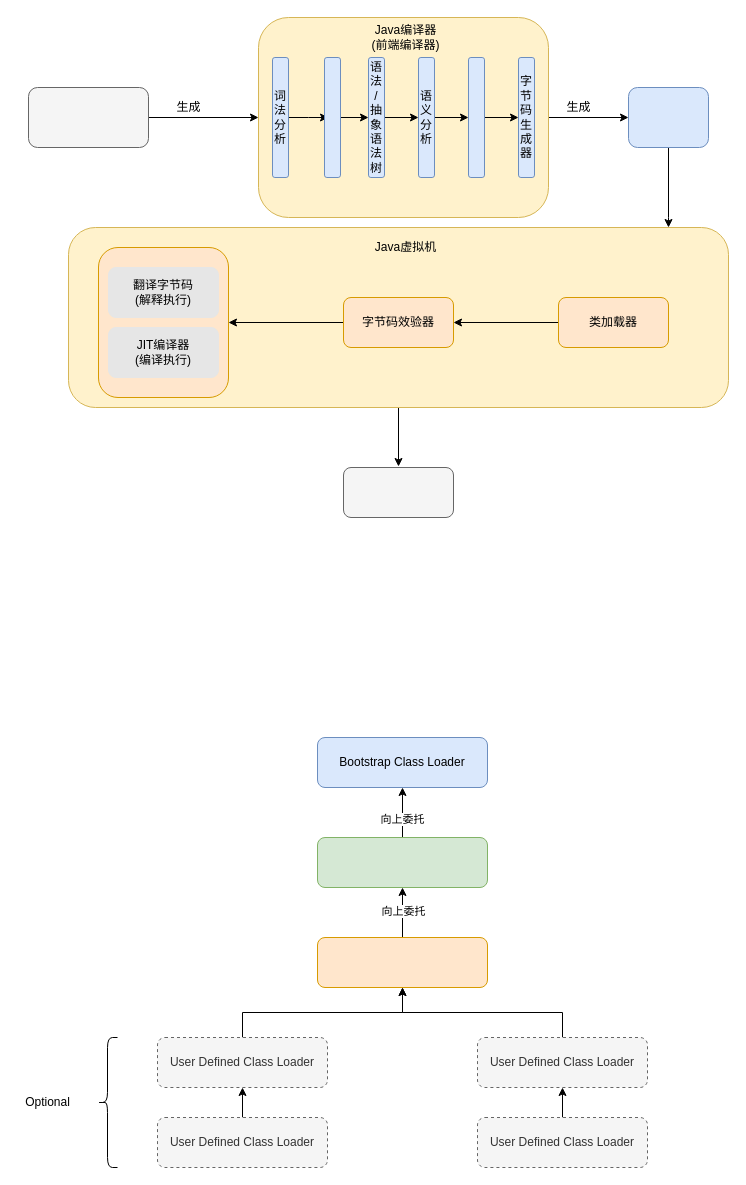
The diagram is 746 pixels wide and 1185 high, and some of its shapes have lost their labels. Each missing label, with the box of its shape:
Extension Class Loader: (316, 836, 488, 888)
Java源码 (xxx.java): (28, 86, 148, 148)
System Class Loader: (316, 936, 488, 988)
字节码 (xxx.class): (628, 86, 708, 148)
操作系统: (342, 466, 454, 518)
注解抽象语法树: (468, 56, 484, 178)
语法分析: (324, 56, 340, 178)
